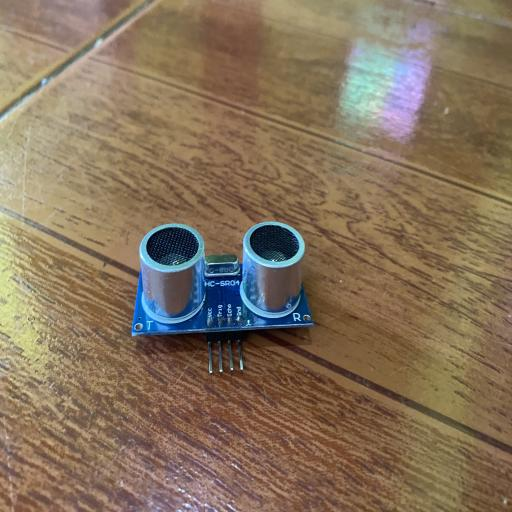Ultrasonic Sensor: (131, 221, 314, 374)
